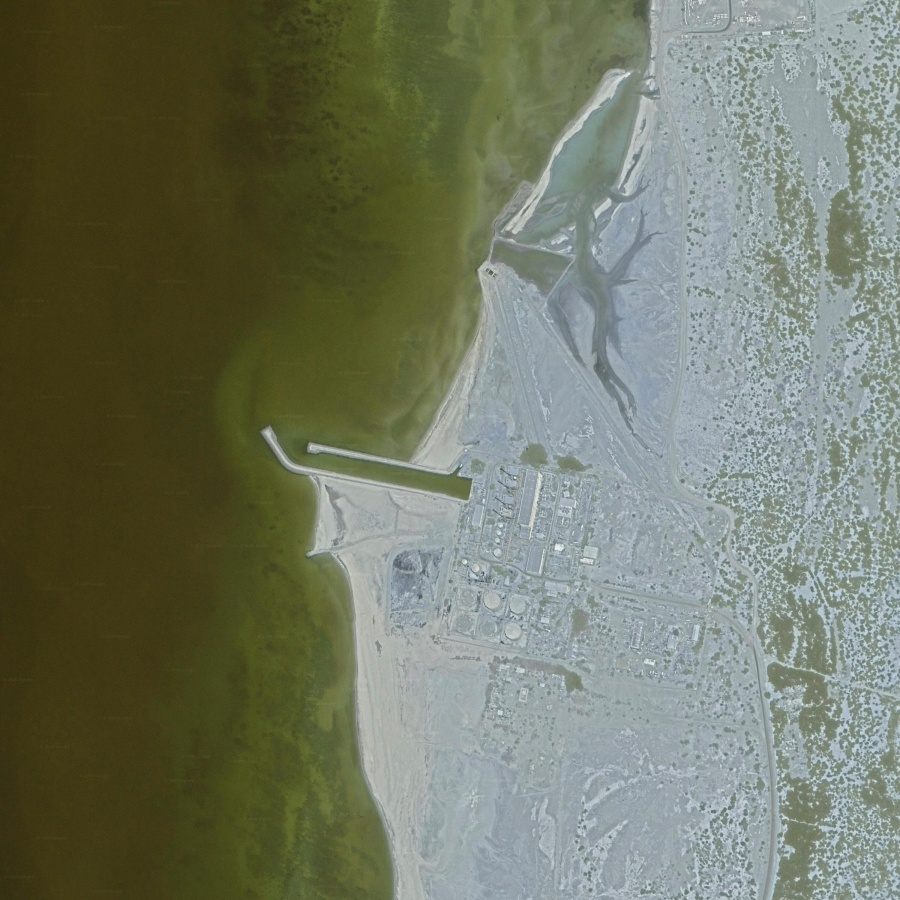PowerPlant: (379, 455, 607, 658)
